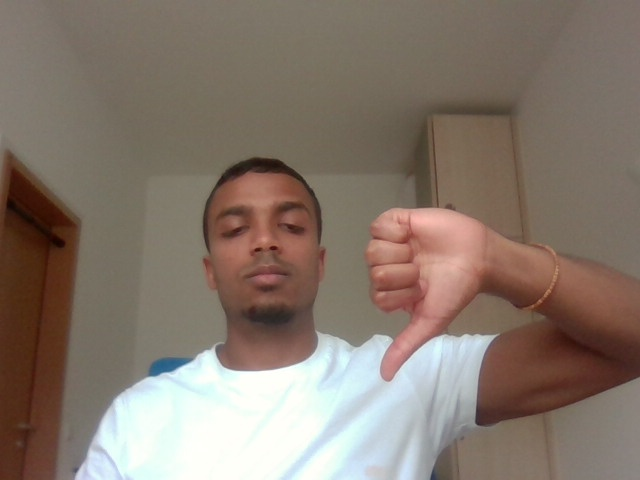no: (355, 182, 498, 388)
